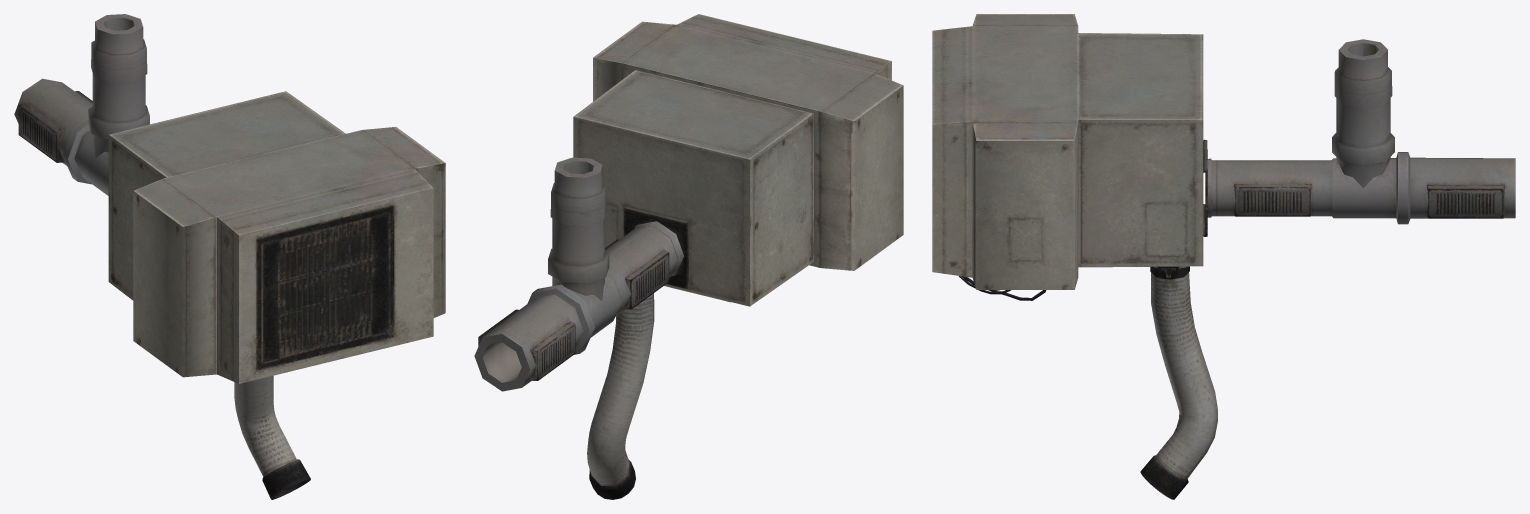
File: sm21_003_airduct01a.fbx
3 renders of one model, left to right at view 1: azimuth 30°, elevation 25°; view 2: azimuth 150°, elevation 25°; view 3: azimuth 270°, elevation 25°, orthographic.
Visible parts, largest first — view 1: LOD_1_Group_8_Sub_1__sm21_003_AirDuct01A_A_Mat, LOD_1_Group_2_Sub_1__sm21_003_AirDuct01A_A_Mat, LOD_1_Group_0_Sub_1__sm21_003_AirDuct01A_A_Mat, LOD_1_Group_12_Sub_1__sm21_003_AirDuct01A_A_Mat, LOD_1_Group_9_Sub_1__sm21_003_AirDuct01A_A_Mat; view 2: LOD_1_Group_8_Sub_1__sm21_003_AirDuct01A_A_Mat, LOD_1_Group_12_Sub_1__sm21_003_AirDuct01A_A_Mat, LOD_1_Group_0_Sub_1__sm21_003_AirDuct01A_A_Mat, LOD_1_Group_2_Sub_1__sm21_003_AirDuct01A_A_Mat, LOD_1_Group_9_Sub_1__sm21_003_AirDuct01A_A_Mat, LOD_1_Group_11_Sub_1__sm21_003_AirDuct01A_A_Mat; view 3: LOD_1_Group_8_Sub_1__sm21_003_AirDuct01A_A_Mat, LOD_1_Group_12_Sub_1__sm21_003_AirDuct01A_A_Mat, LOD_1_Group_0_Sub_1__sm21_003_AirDuct01A_A_Mat, LOD_1_Group_2_Sub_1__sm21_003_AirDuct01A_A_Mat, LOD_1_Group_10_Sub_1__sm21_003_AirDuct01A_A_Mat.
Part boxes in pixels (x1,y1,x2,y2): LOD_1_Group_8_Sub_1__sm21_003_AirDuct01A_A_Mat: (108,91,445,383); LOD_1_Group_2_Sub_1__sm21_003_AirDuct01A_A_Mat: (88,14,149,157); LOD_1_Group_0_Sub_1__sm21_003_AirDuct01A_A_Mat: (234,375,310,499); LOD_1_Group_12_Sub_1__sm21_003_AirDuct01A_A_Mat: (14,78,108,195); LOD_1_Group_9_Sub_1__sm21_003_AirDuct01A_A_Mat: (18,102,65,162); LOD_1_Group_8_Sub_1__sm21_003_AirDuct01A_A_Mat: (573,14,903,306); LOD_1_Group_12_Sub_1__sm21_003_AirDuct01A_A_Mat: (474,221,683,391); LOD_1_Group_0_Sub_1__sm21_003_AirDuct01A_A_Mat: (587,293,654,499); LOD_1_Group_2_Sub_1__sm21_003_AirDuct01A_A_Mat: (548,157,609,300); LOD_1_Group_9_Sub_1__sm21_003_AirDuct01A_A_Mat: (529,250,669,380); LOD_1_Group_11_Sub_1__sm21_003_AirDuct01A_A_Mat: (623,206,689,289); LOD_1_Group_8_Sub_1__sm21_003_AirDuct01A_A_Mat: (932,14,1203,289); LOD_1_Group_12_Sub_1__sm21_003_AirDuct01A_A_Mat: (1207,152,1515,224); LOD_1_Group_0_Sub_1__sm21_003_AirDuct01A_A_Mat: (1140,266,1217,499); LOD_1_Group_2_Sub_1__sm21_003_AirDuct01A_A_Mat: (1332,39,1394,188); LOD_1_Group_10_Sub_1__sm21_003_AirDuct01A_A_Mat: (1233,184,1505,218).
Bounding box in the file's own units: 111 × 169 × 215.
